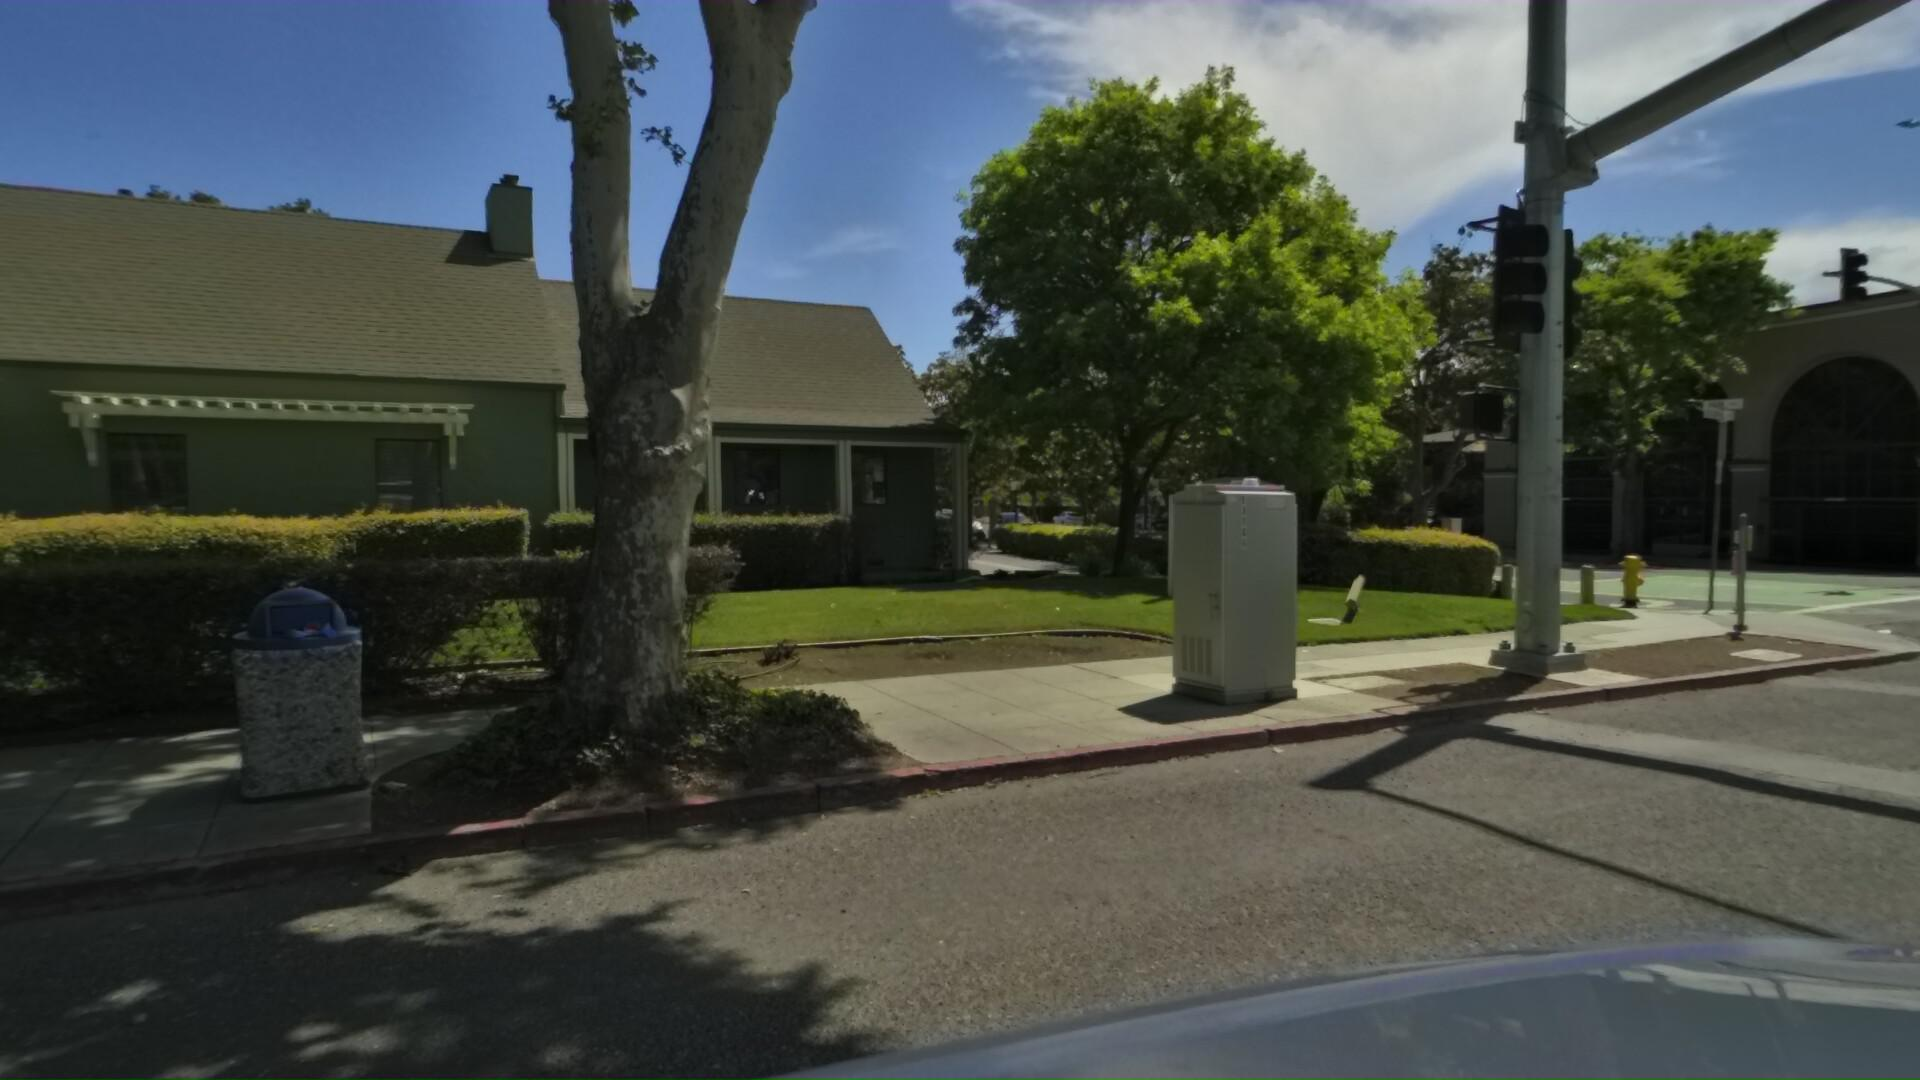car: (1396, 502, 1469, 535), (1440, 496, 1509, 529), (1149, 502, 1207, 534), (1054, 506, 1088, 526)
